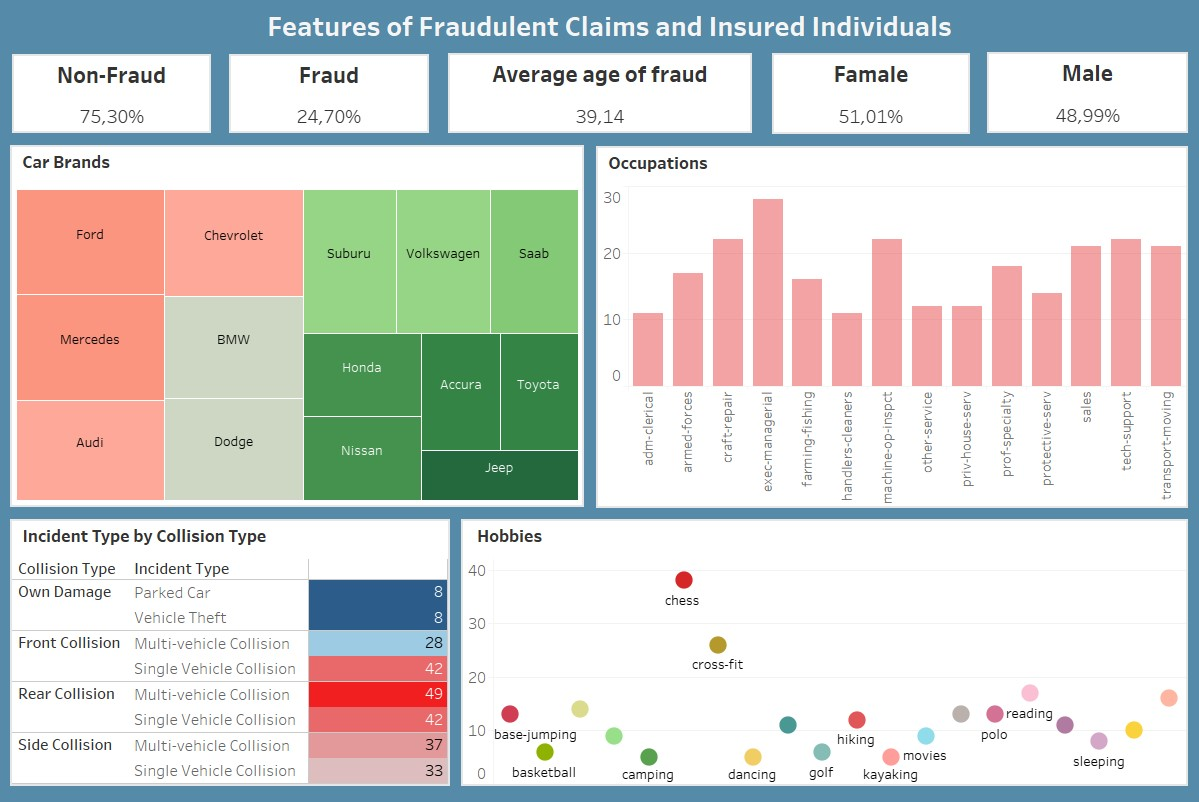

The dashboard page shown, as its layout file describes it:
{"tool":"tableau","page":{"name":"Dashboard 2","canvas":[1200,800],"ordinal":1},"visuals":[{"type":"text","box":[165,5,891,40]},{"type":"worksheet","title":"Hoja 11","mark":"Automatic","box":[988,52,201,81]},{"type":"worksheet","title":"Hoja 9","mark":"Automatic","box":[449,53,304,80]},{"type":"worksheet","title":"Hoja 10","mark":"Automatic","box":[773,53,198,81]},{"type":"worksheet","title":"Hoja 7","mark":"Automatic","box":[13,54,199,79]},{"type":"worksheet","title":"Hoja 8","mark":"Automatic","box":[230,54,200,79]},{"type":"worksheet","title":"Hoja 12","mark":"Automatic","box":[11,145,574,362]},{"type":"worksheet","title":"Hoja 13","mark":"Automatic","rows":["policy_number"],"cols":["insured_occupation"],"box":[597,146,592,362]},{"type":"worksheet","title":"Hoja 14","mark":"Square","rows":["collision_type","incident_type"],"box":[11,519,440,267]},{"type":"worksheet","title":"Hoja 15","mark":"Circle","rows":["policy_number"],"cols":["insured_hobbies"],"box":[462,519,727,267]}]}

Visuals, with their boxes in screenshot pixels (x1, y1, x2, y2), scaled from the page's 1200x800 canvas onto the 1199x802 screenshot:
text: 165,5,1055,45
"Hoja 11" worksheet: 987,52,1188,133
"Hoja 9" worksheet: 449,53,752,133
"Hoja 10" worksheet: 772,53,970,134
"Hoja 7" worksheet: 13,54,212,133
"Hoja 8" worksheet: 230,54,430,133
"Hoja 12" worksheet: 11,145,585,508
"Hoja 13" worksheet: 597,146,1188,509
"Hoja 14" worksheet (Square marks): 11,520,451,788
"Hoja 15" worksheet (Circle marks): 462,520,1188,788
